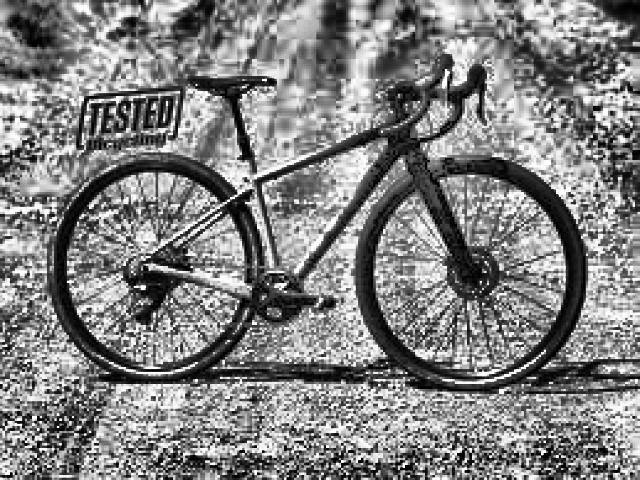cranks_set: (250, 267, 330, 326)
pedal: (311, 295, 336, 311)
rear_derailleur: (126, 281, 171, 328)
saddle: (186, 70, 278, 103)
sti_shifter: (470, 62, 492, 126), (436, 52, 454, 109)
wheel: (351, 154, 588, 389), (45, 153, 263, 385)
